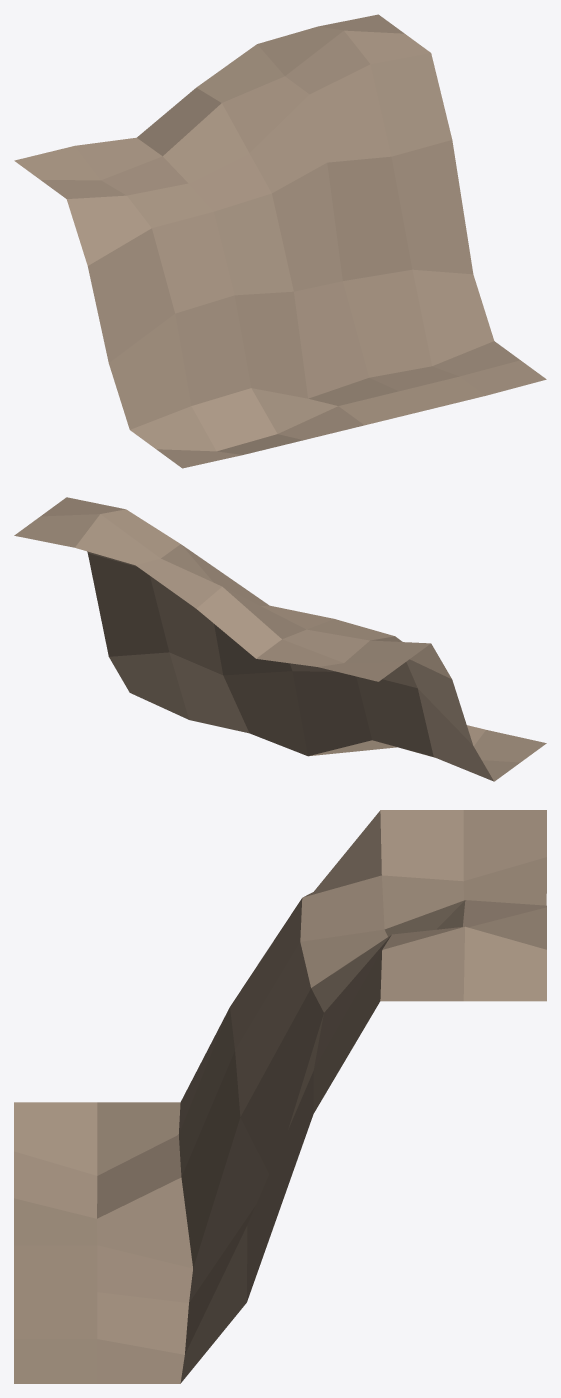
The model's file is Groborchik_RiverBank_Trans_Down4-3.fbx.
The picture shows the model from 3 angles, top to bottom: view 1: azimuth 30°, elevation 25°; view 2: azimuth 150°, elevation 25°; view 3: azimuth 270°, elevation 25°; orthographic projection. The views are drawn at different scales.
Parts seen in each view (by area): view 1: Trans_Down4-3; view 2: Trans_Down4-3; view 3: Trans_Down4-3.
Part boxes in pixels (x1,y1,x2,y2): Trans_Down4-3: [14, 14, 546, 468]; Trans_Down4-3: [14, 497, 546, 781]; Trans_Down4-3: [14, 810, 546, 1383].
Size of the model in its own units: 1000 by 724 by 800.
